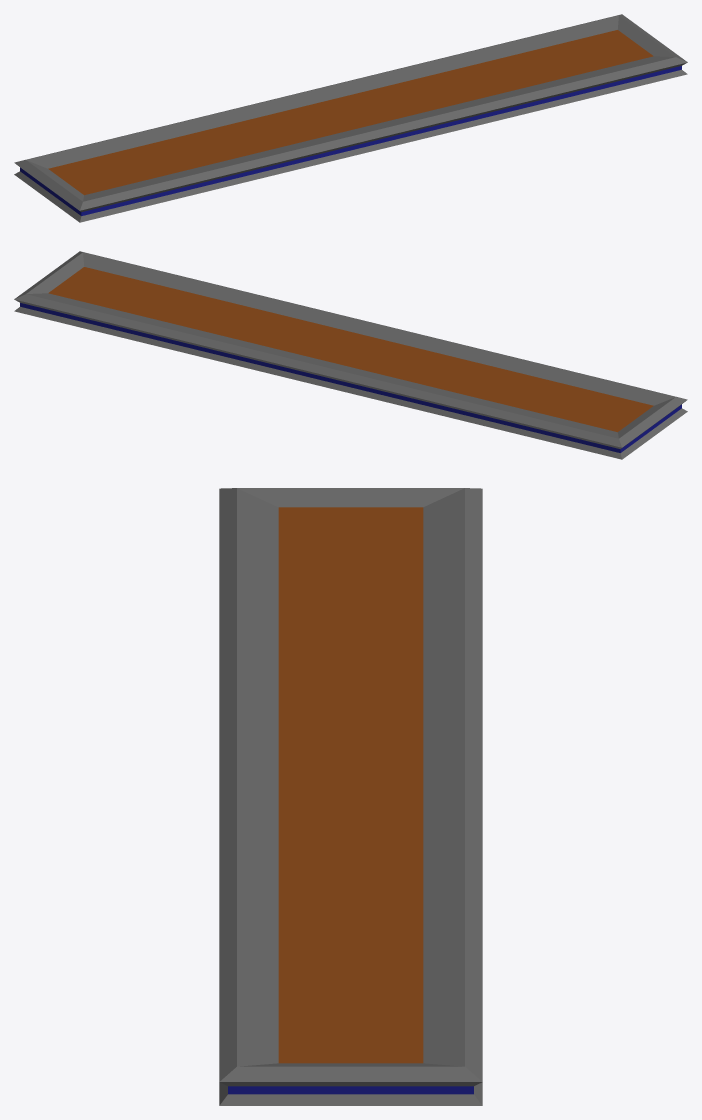
The model's file is BuildZone3.obj.
3 views of the same model, one above another, from view 1: azimuth 30°, elevation 25°; view 2: azimuth 150°, elevation 25°; view 3: azimuth 270°, elevation 25° (orthographic). The views are drawn at different scales.
Visible parts, largest first — view 1: BuildZone3_Cube.003; view 2: BuildZone3_Cube.003; view 3: BuildZone3_Cube.003.
Part boxes in pixels (x1=…): BuildZone3_Cube.003: x1=14, y1=14, x2=687, y2=222; BuildZone3_Cube.003: x1=14, y1=251, x2=687, y2=459; BuildZone3_Cube.003: x1=219, y1=488, x2=482, y2=1105.
Size of the model in its own units: 16 by 0.4 by 3.
Materials: 2 (2 with a texture image).
